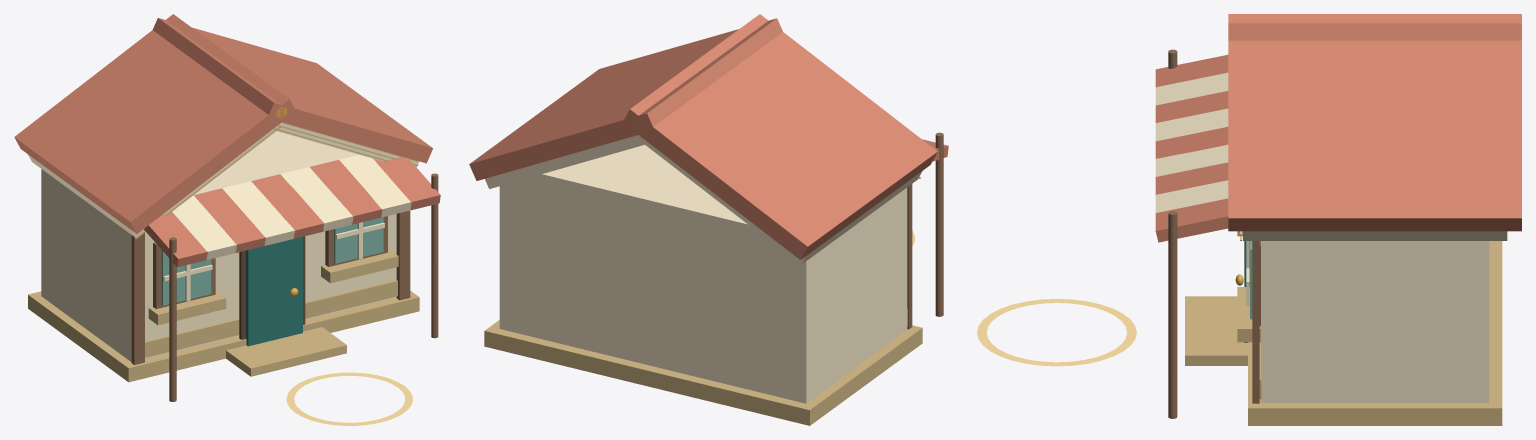
Rendered from conversation-cafe.glb.
3 views of the same model, side by side, from view 1: azimuth 30°, elevation 25°; view 2: azimuth 150°, elevation 25°; view 3: azimuth 270°, elevation 25° (orthographic). The views are drawn at different scales.
Visible parts, largest first — view 1: conversation-cafe, door, chapter-marker; view 2: conversation-cafe; view 3: conversation-cafe, chapter-marker.
Part boxes in pixels (x1=…): conversation-cafe: x1=14, y1=14, x2=440, y2=401; door: x1=246, y1=236, x2=302, y2=346; chapter-marker: x1=286, y1=372, x2=412, y2=425; conversation-cafe: x1=469, y1=14, x2=948, y2=425; conversation-cafe: x1=1155, y1=14, x2=1521, y2=425; chapter-marker: x1=977, y1=299, x2=1136, y2=366.
Bounding box in the file's own units: 2.7 × 2.15 × 3.34.
